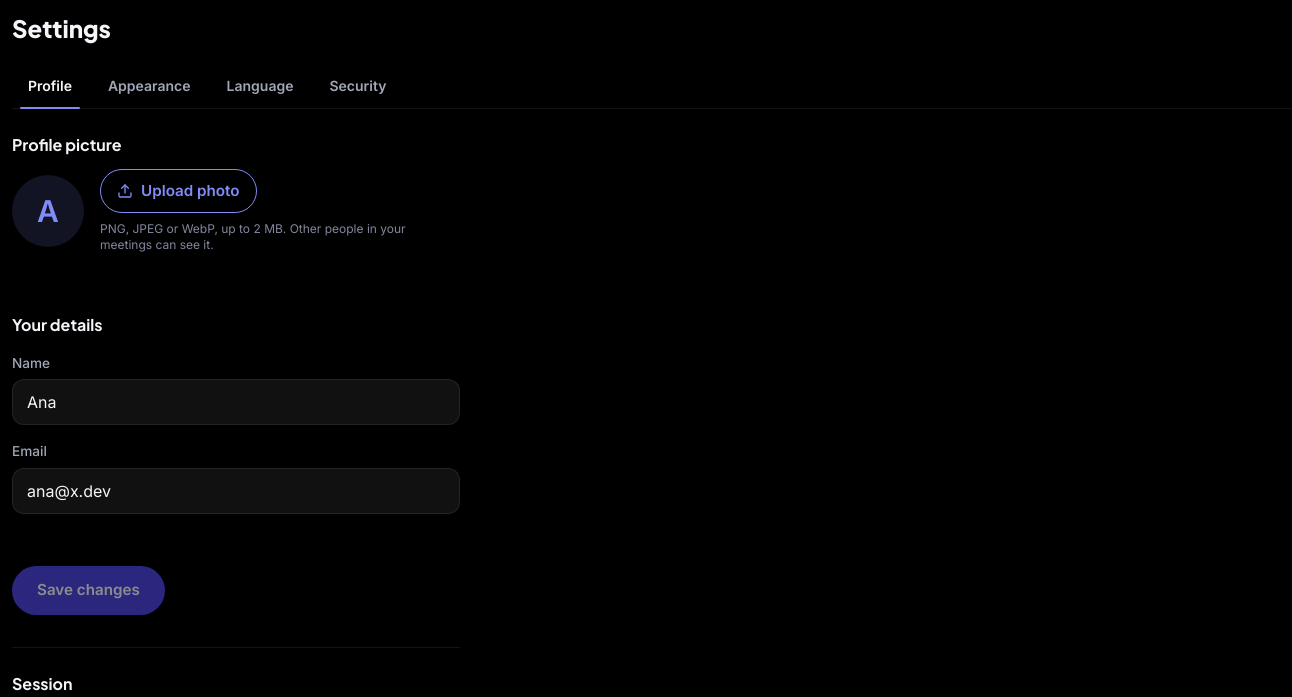
Test case: Settings > Security: change password › a wrong current password shows the server message, clears that field, and keeps the new one
Click the tab "Security".
click(358, 86)  # box top-left (314, 64), bottom-right (402, 108)
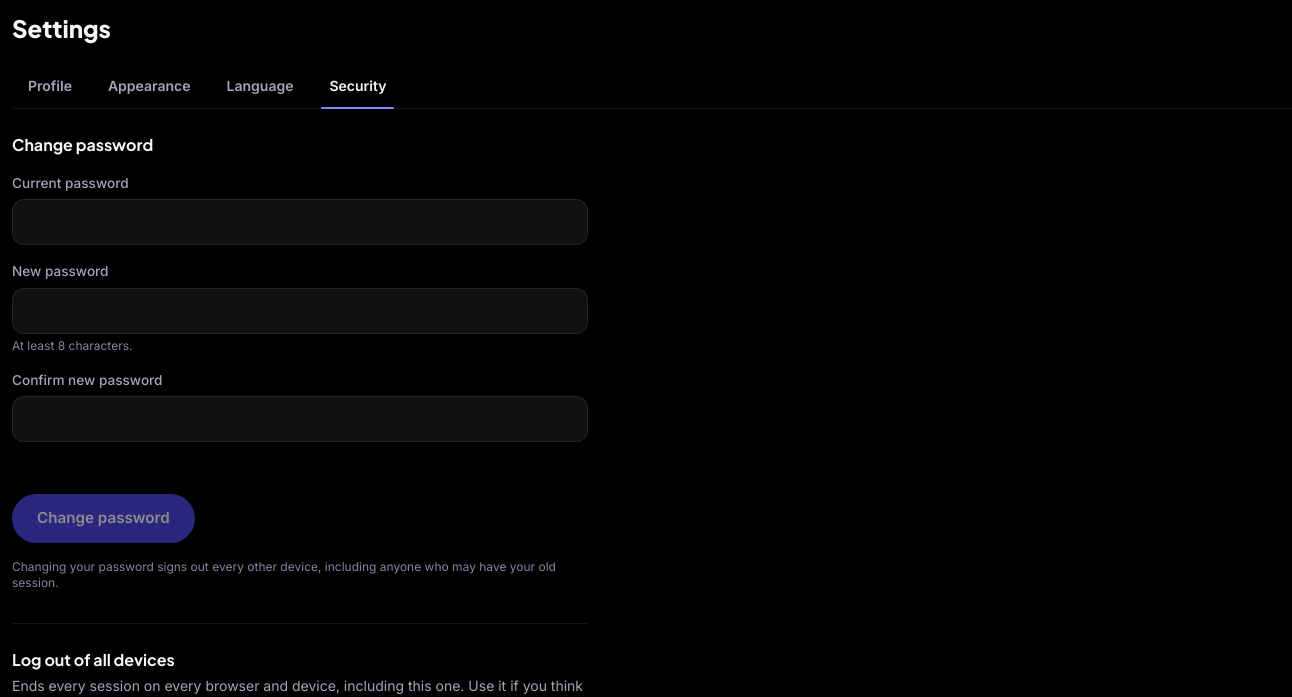
Now the heading "Change password" is shown, box top-left (12, 134), bottom-right (153, 155)
Type "wrong-one-1" into the password field labelled "Current password".
click(300, 222); type("wrong-one-1")  # box top-left (12, 199), bottom-right (588, 245)
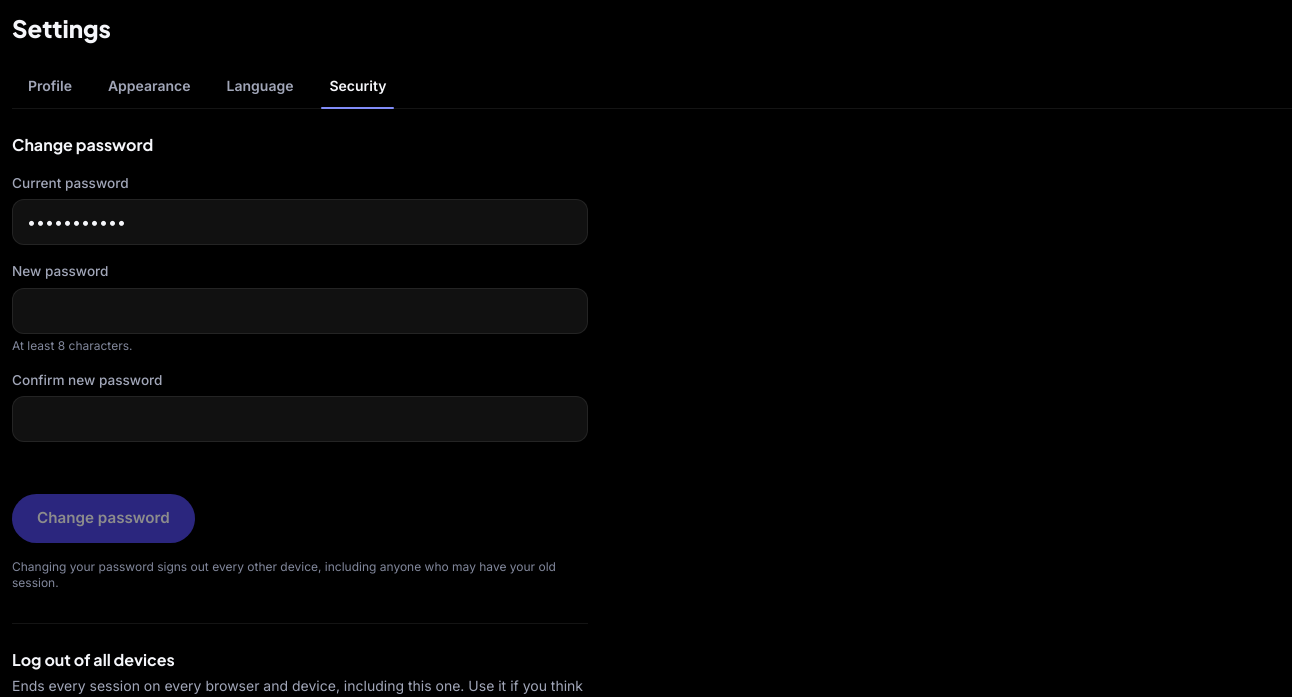
Type "longenough1" into the password field labelled "New password".
click(300, 311); type("longenough1")  # box top-left (12, 288), bottom-right (588, 334)
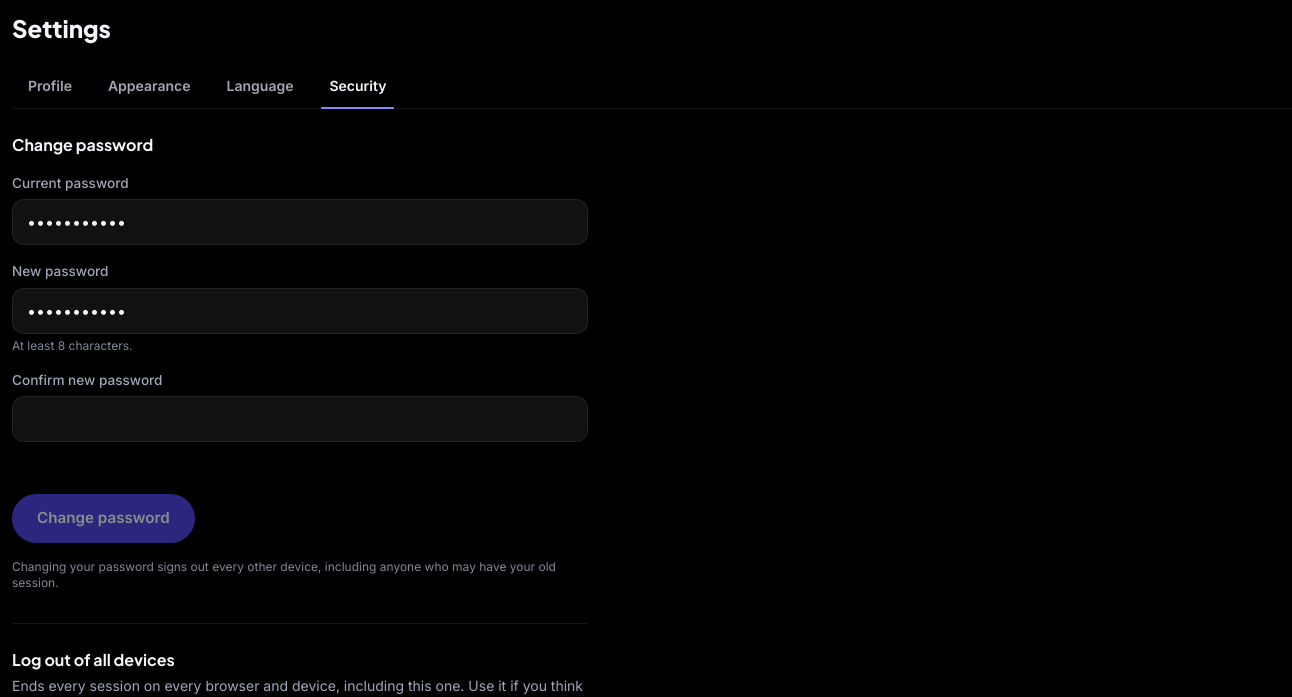
Type "longenough1" into the password field labelled "Confirm new password".
click(300, 419); type("longenough1")  # box top-left (12, 396), bottom-right (588, 442)
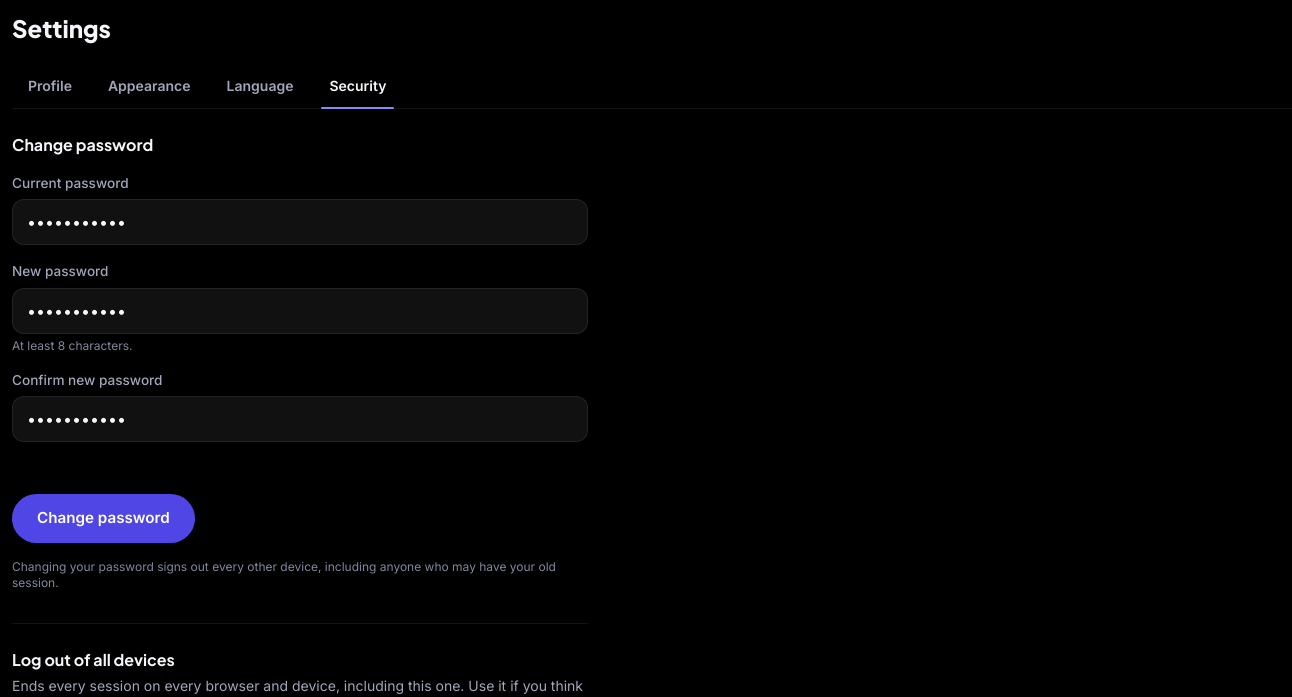
Click the button "Change password".
click(103, 519)  # box top-left (12, 494), bottom-right (195, 543)
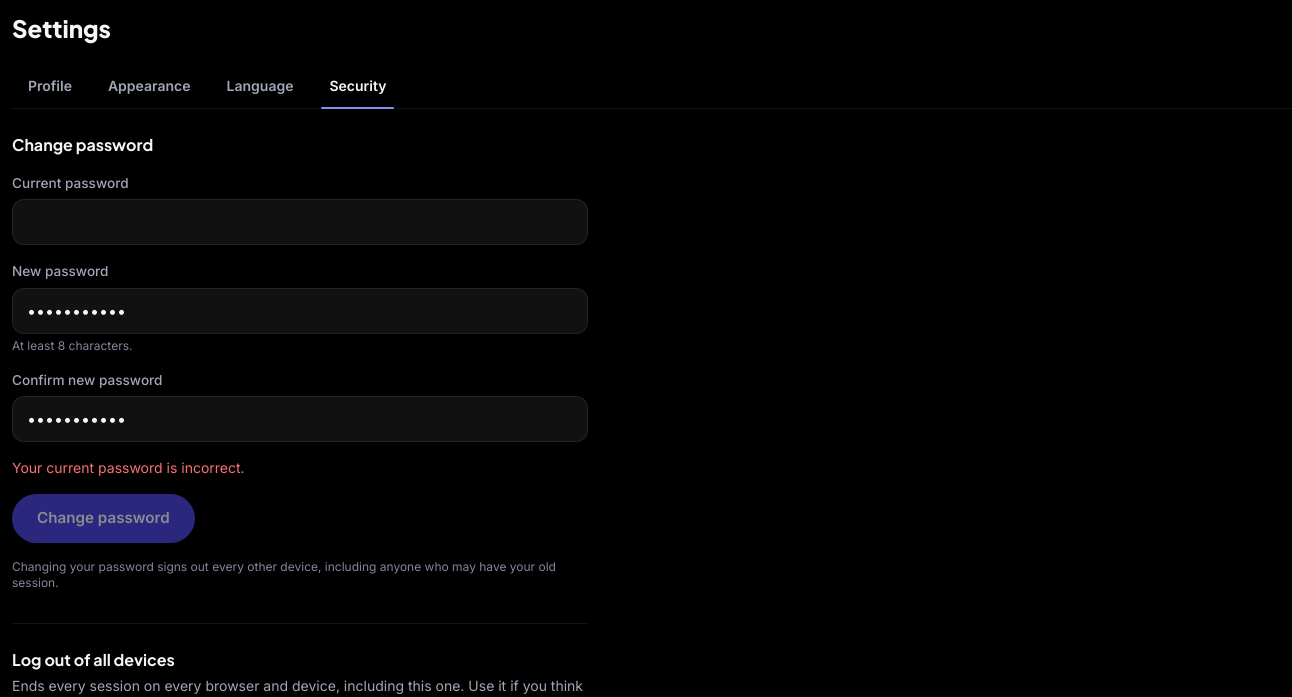
Now the message shows "current password is incorrect", box top-left (12, 459), bottom-right (245, 476)
Now the password field labelled "Current password" is empty, box top-left (12, 199), bottom-right (588, 245)
